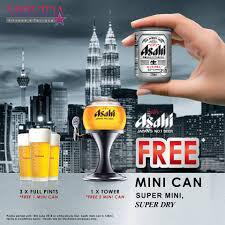beer: (134, 27, 174, 83)
